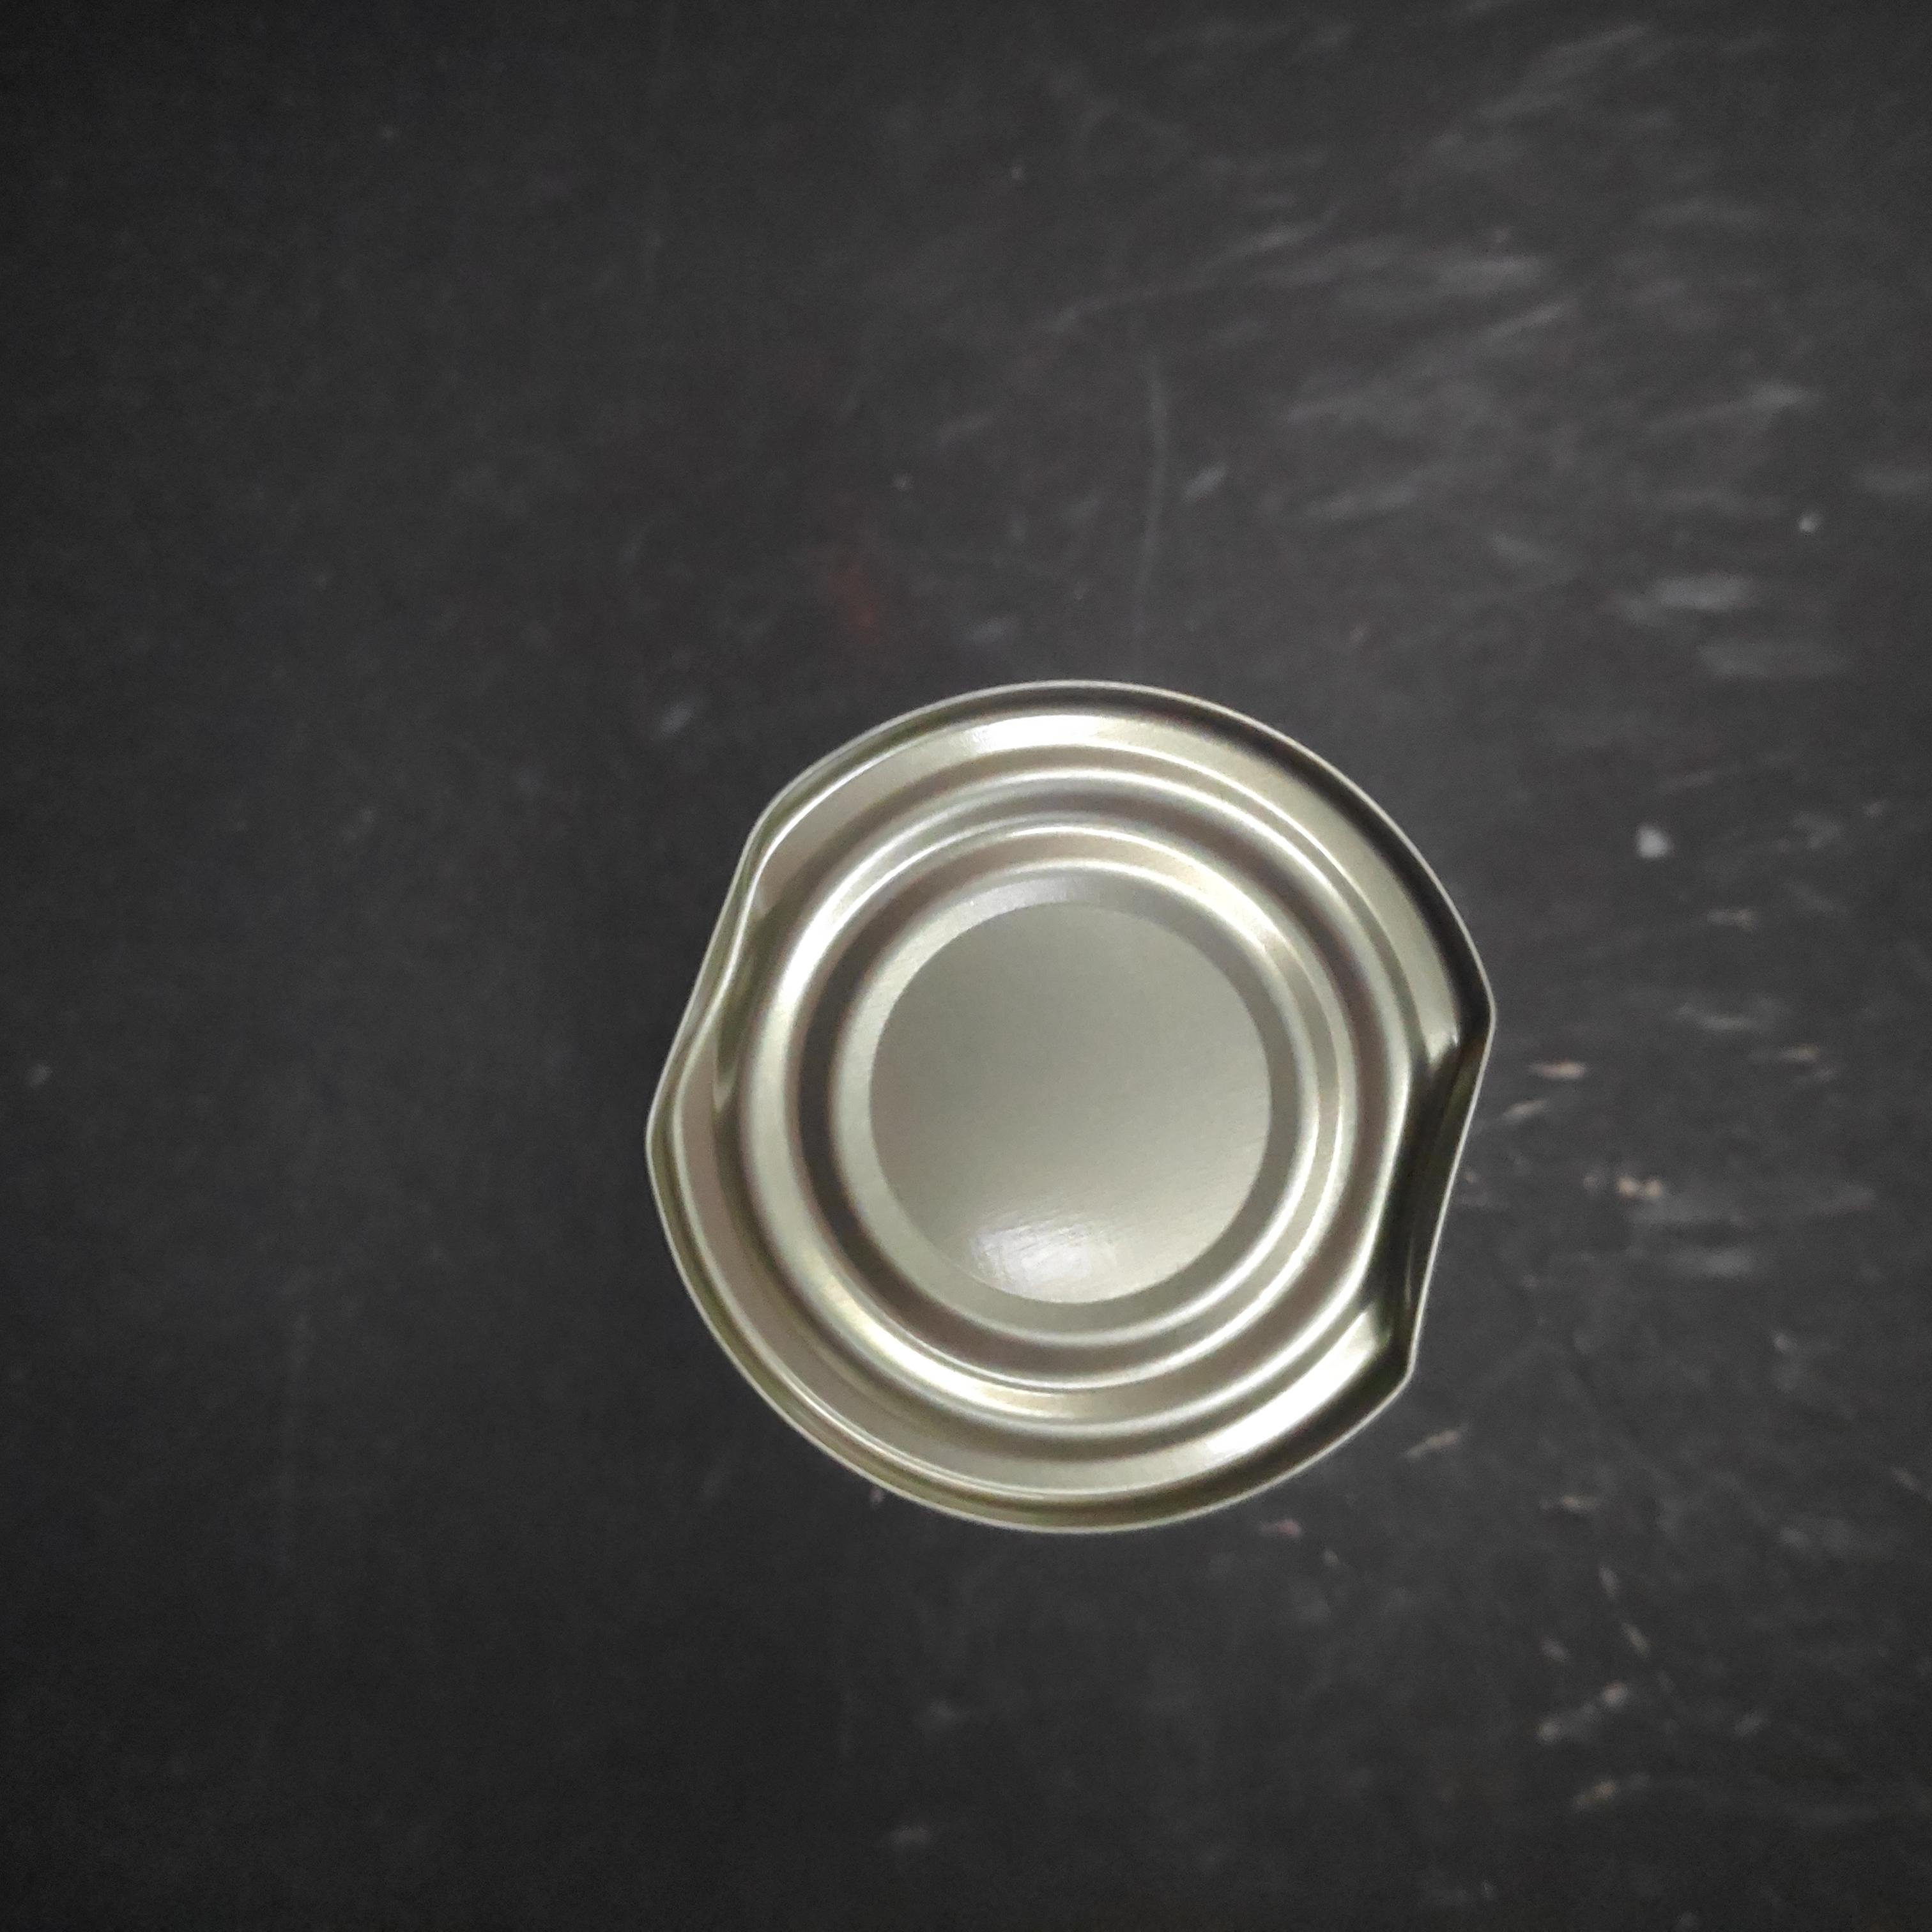Minor Defect: (426, 384, 1302, 1263)
